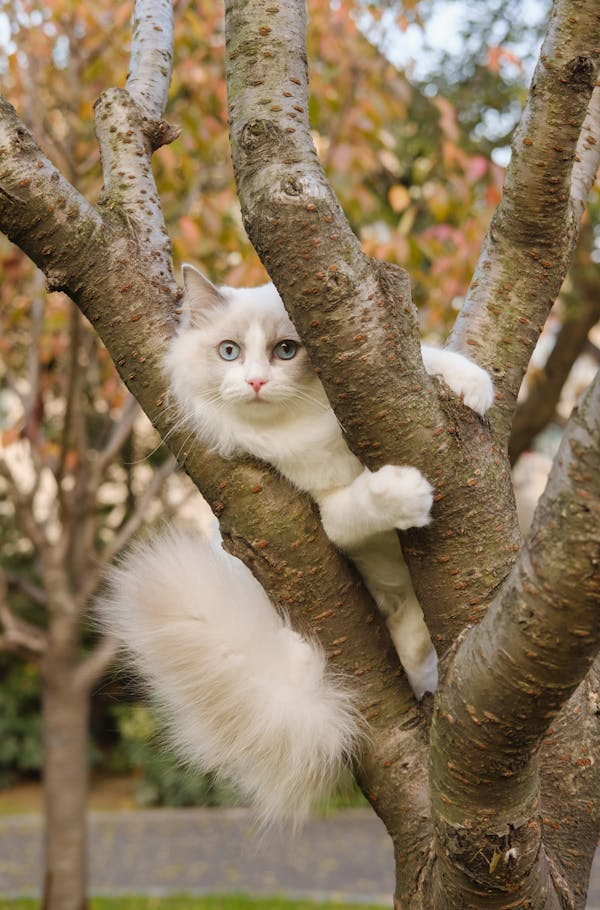Cat: (162, 261, 493, 811)
